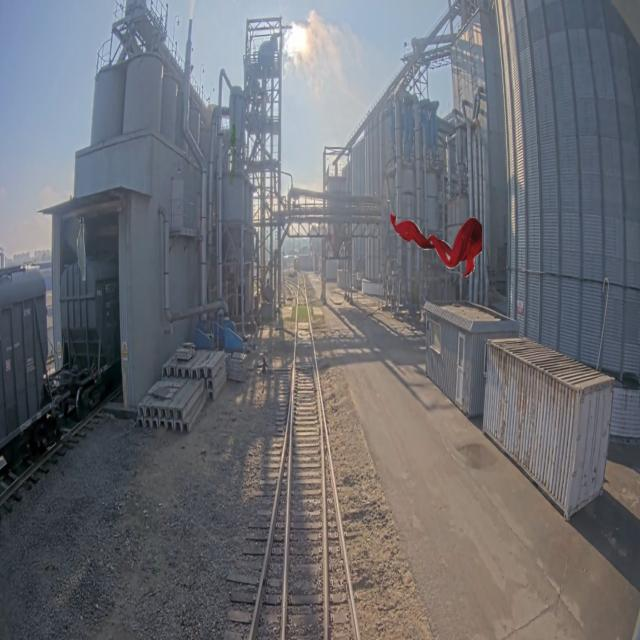floating object: (388, 212, 482, 276), (77, 217, 91, 280), (230, 122, 236, 186)
